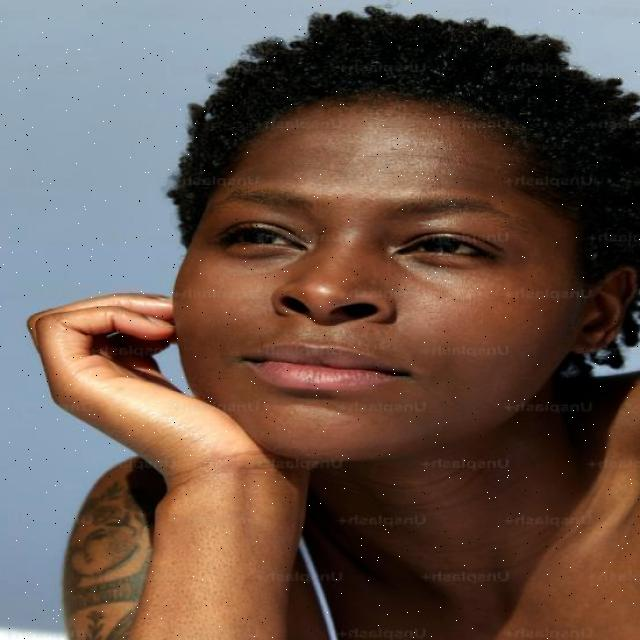puffy_eyes: (210, 246, 293, 266), (411, 256, 483, 269)
